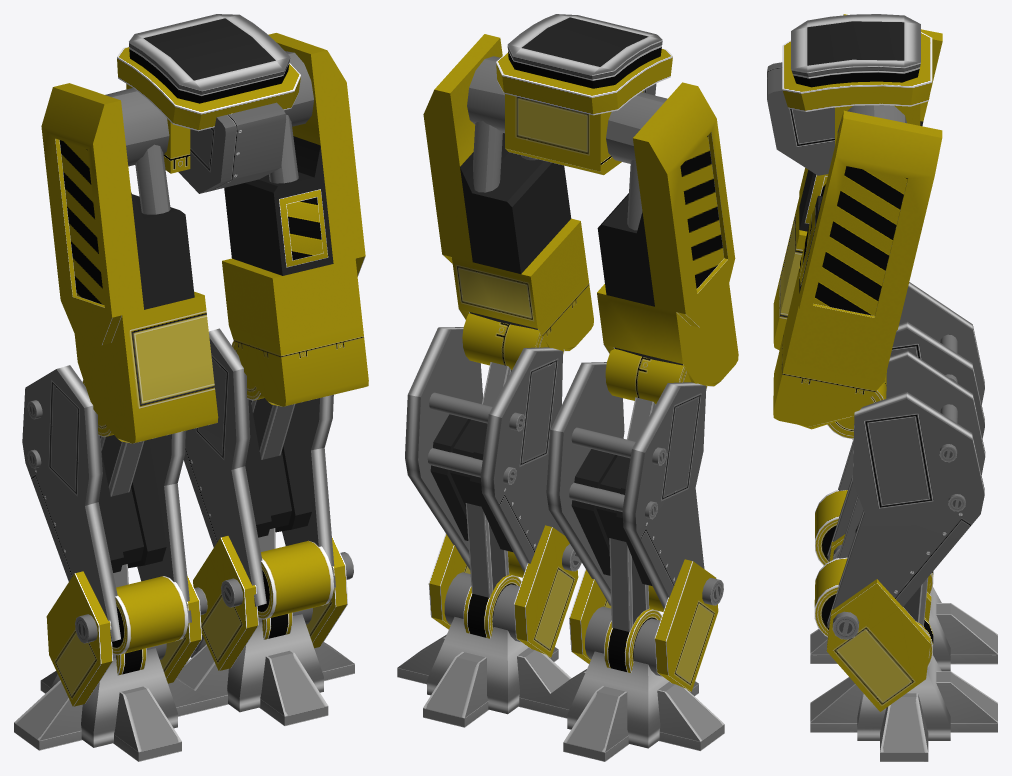
File: legs_w.fbx
3 views of the same model, side by side, from view 1: azimuth 30°, elevation 25°; view 2: azimuth 150°, elevation 25°; view 3: azimuth 270°, elevation 25° (orthographic). The views are drawn at different scales.
Parts seen in each view (by area): view 1: LEGS_W; view 2: LEGS_W; view 3: LEGS_W.
Boxes of the visible parts, x1,y1,x2,y2 form: LEGS_W: (14,14,368,761); LEGS_W: (397,14,738,761); LEGS_W: (767,14,997,761).
Size of the model in its own units: 45.81 by 93.78 by 30.26.
